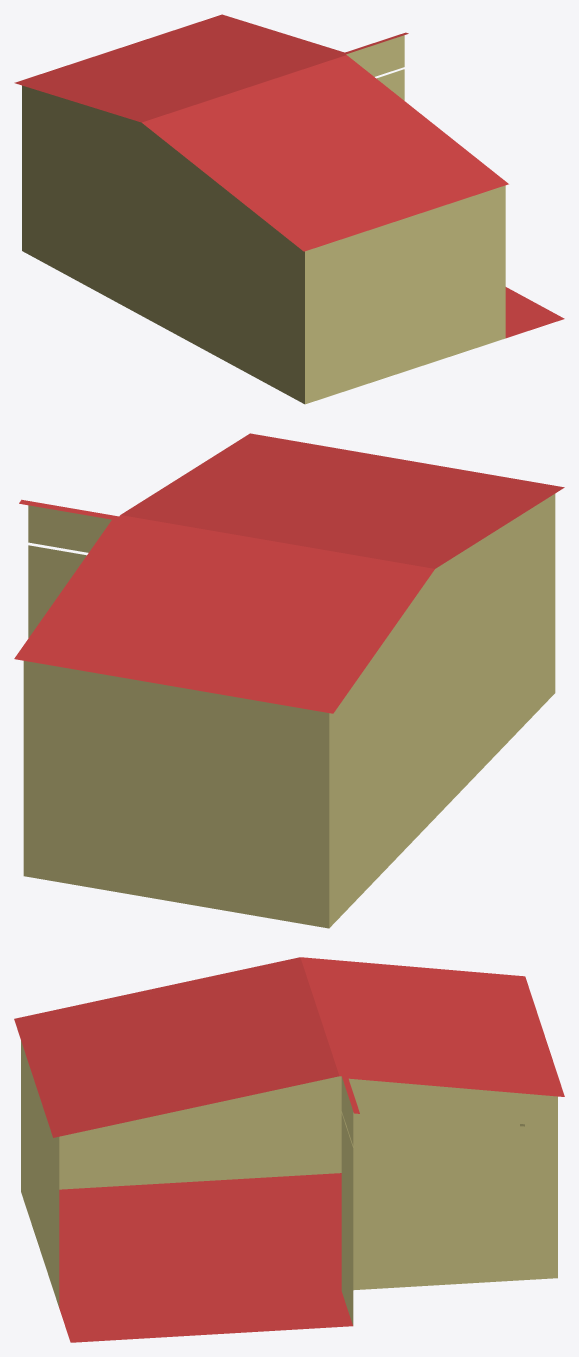
The picture shows the model from 3 angles, top to bottom: view 1: azimuth 30°, elevation 25°; view 2: azimuth 150°, elevation 25°; view 3: azimuth 270°, elevation 25°; orthographic projection. The views are drawn at different scales.
Bounding box in the file's own units: 17.43 × 22.15 × 9.57.
